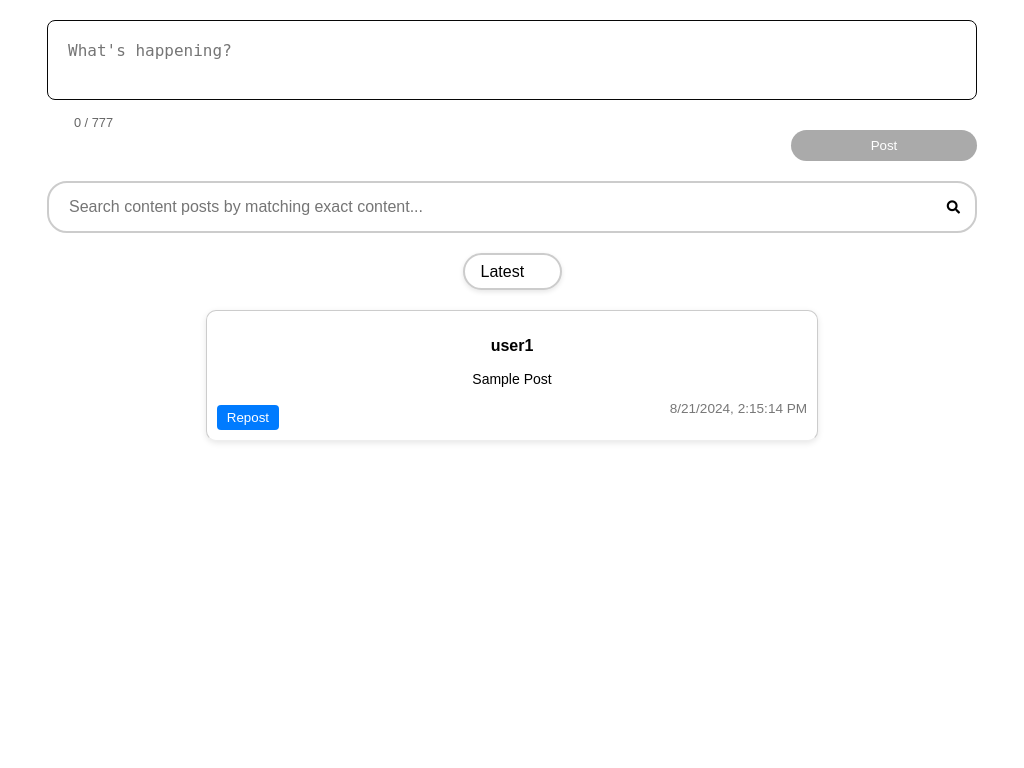
Posts Component › handles repost errors correctly
The image size is (1024, 768).
Expected: the text "Sample Post" is shown, [472,371,552,387]
Click the button "Repost": (248, 417) [217,405,279,430]
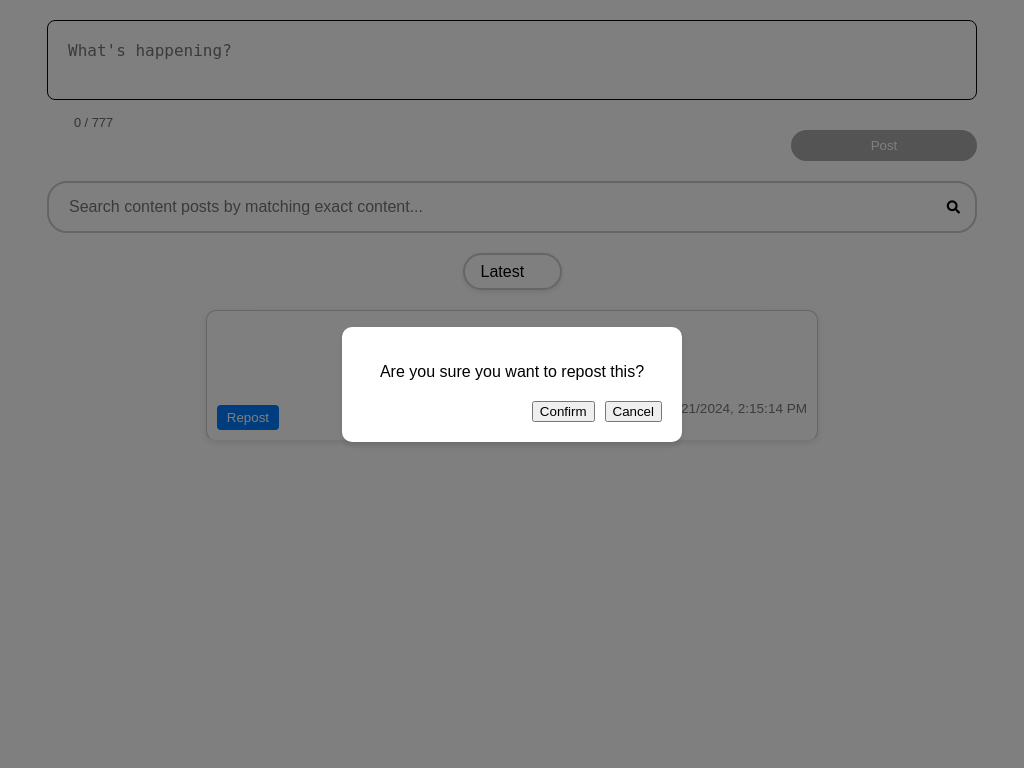
Expected: the text "Are you sure you want to repost this?" is shown, [362,362,662,380]
Click the button "Confirm": (563, 411) [532,400,594,422]
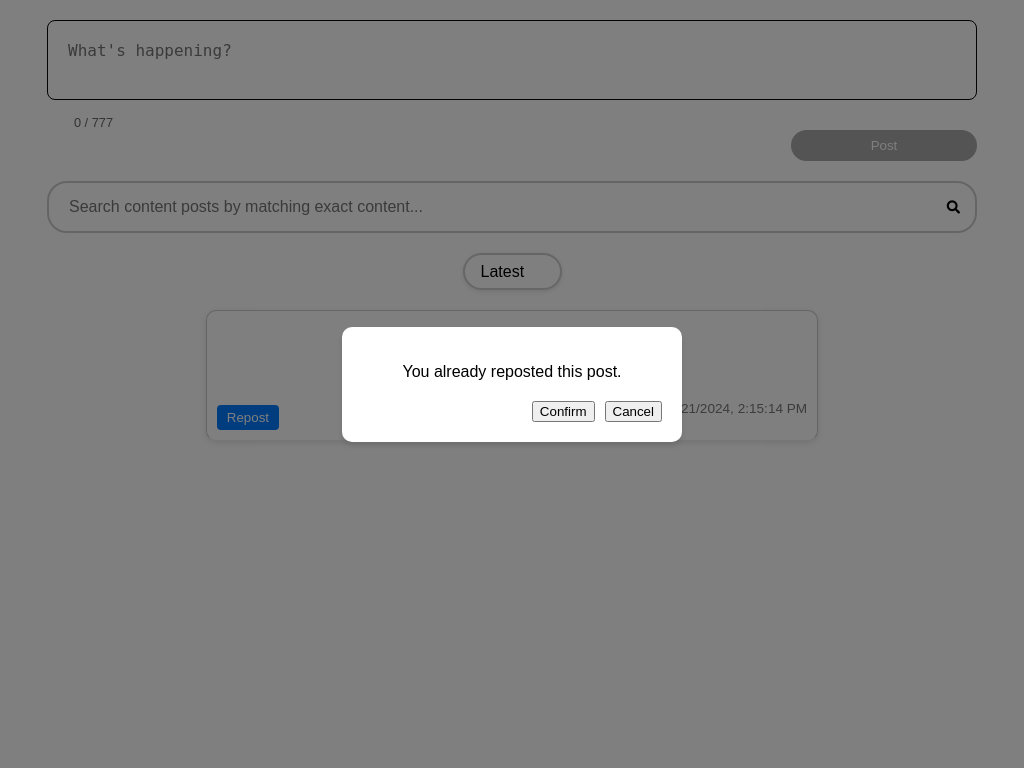
Expected: the text "You already reposted this post." is shown, [402,362,622,380]
